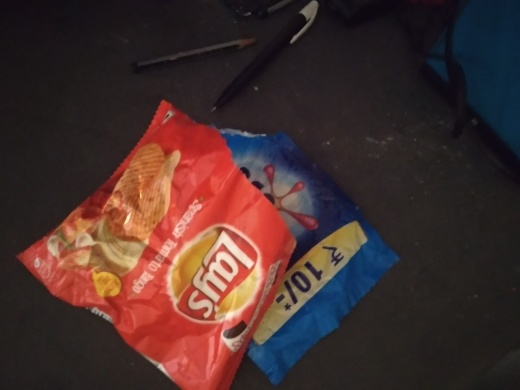lays: (4, 95, 287, 390)
surf: (195, 120, 399, 390)
